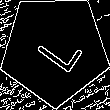L_NW: (27, 22, 83, 77)
